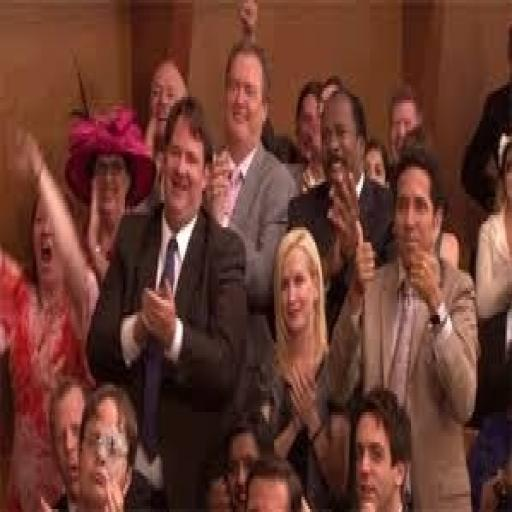clapping: (2, 24, 505, 506)
